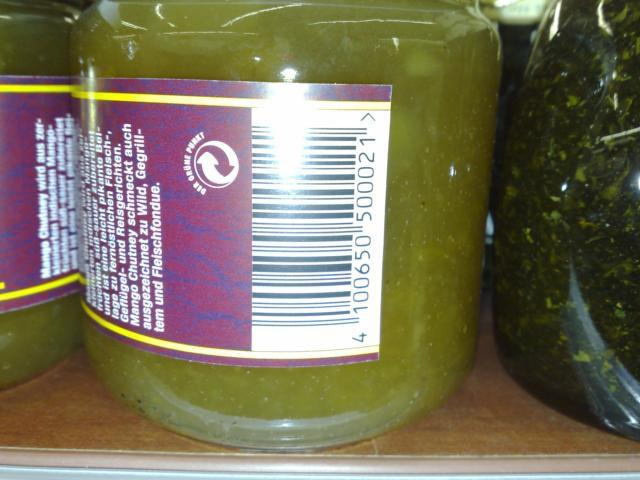Barcode: (249, 105, 379, 352)
